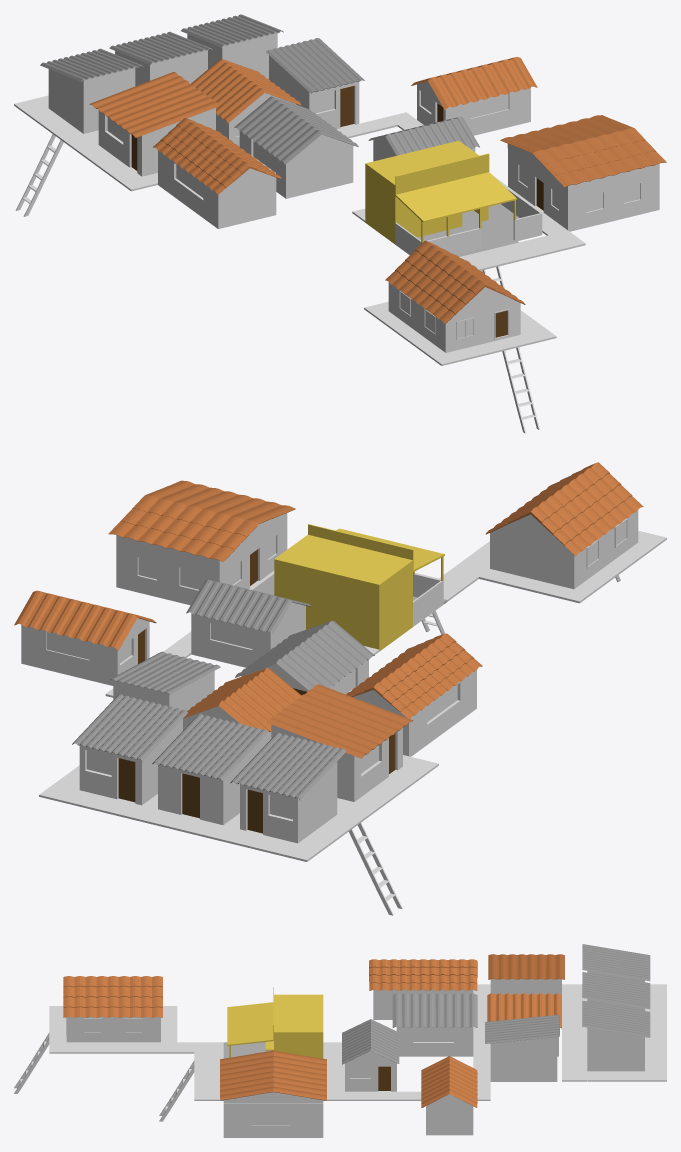
Rendered from palafita.fbx.
3 renders of one model, top to bottom at view 1: azimuth 30°, elevation 25°; view 2: azimuth 150°, elevation 25°; view 3: azimuth 270°, elevation 25°, orthographic. The views are drawn at different scales.
Parts seen in each view (by area): view 1: bar, casa 2, Casa 1, Ponte, casa 8, casa 6, casa 9, casa 3, casa 4, casa 10, casa 7, casa 125 (+4 smaller); view 2: casa 2, bar, Ponte, Casa 1, casa 3, casa 10, casa 8, casa 9, casa 11, casa 125, casa 5, casa 6 (+3 smaller); view 3: Ponte, casa 2, Casa 1, bar, casa 6, casa 4, casa 8, casa 125, casa 3, casa 5, casa 9, casa 11 (+4 smaller).
Part boxes in pixels (x1,y1,x2,y2): bar: [365, 140, 542, 256]; casa 2: [500, 115, 666, 231]; Casa 1: [385, 240, 525, 352]; Ponte: [14, 95, 585, 365]; casa 8: [153, 118, 281, 228]; casa 6: [234, 96, 358, 198]; casa 9: [89, 72, 219, 176]; casa 3: [411, 57, 537, 135]; casa 4: [266, 38, 364, 128]; casa 10: [40, 48, 143, 133]; casa 7: [191, 59, 301, 146]; casa 125: [181, 14, 283, 78]; casa 2: [108, 480, 295, 605]; bar: [251, 524, 447, 651]; Ponte: [39, 530, 666, 861]; Casa 1: [485, 462, 643, 589]; casa 3: [14, 590, 156, 685]; casa 10: [230, 732, 346, 843]; casa 8: [346, 633, 482, 756]; casa 9: [267, 684, 413, 801]; casa 11: [152, 713, 268, 825]; casa 125: [72, 694, 187, 805]; casa 5: [186, 579, 311, 667]; casa 6: [235, 621, 374, 695]; Ponte: [49, 984, 666, 1100]; casa 2: [220, 1050, 326, 1137]; Casa 1: [63, 976, 162, 1042]; bar: [223, 987, 323, 1058]; casa 6: [392, 993, 477, 1056]; casa 4: [485, 1014, 559, 1081]; casa 8: [369, 959, 477, 1019]; casa 125: [582, 1001, 650, 1071]; casa 3: [421, 1056, 477, 1135]; casa 5: [342, 1019, 399, 1091]; casa 9: [488, 954, 564, 994]; casa 11: [582, 972, 650, 1010].
Size of the model in its own units: 1122 by 346 by 1828.
